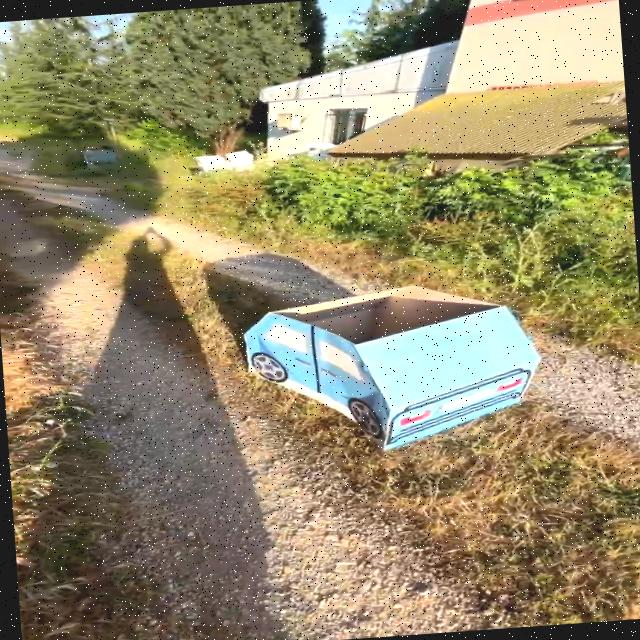blue_car: (180, 250, 557, 470)
